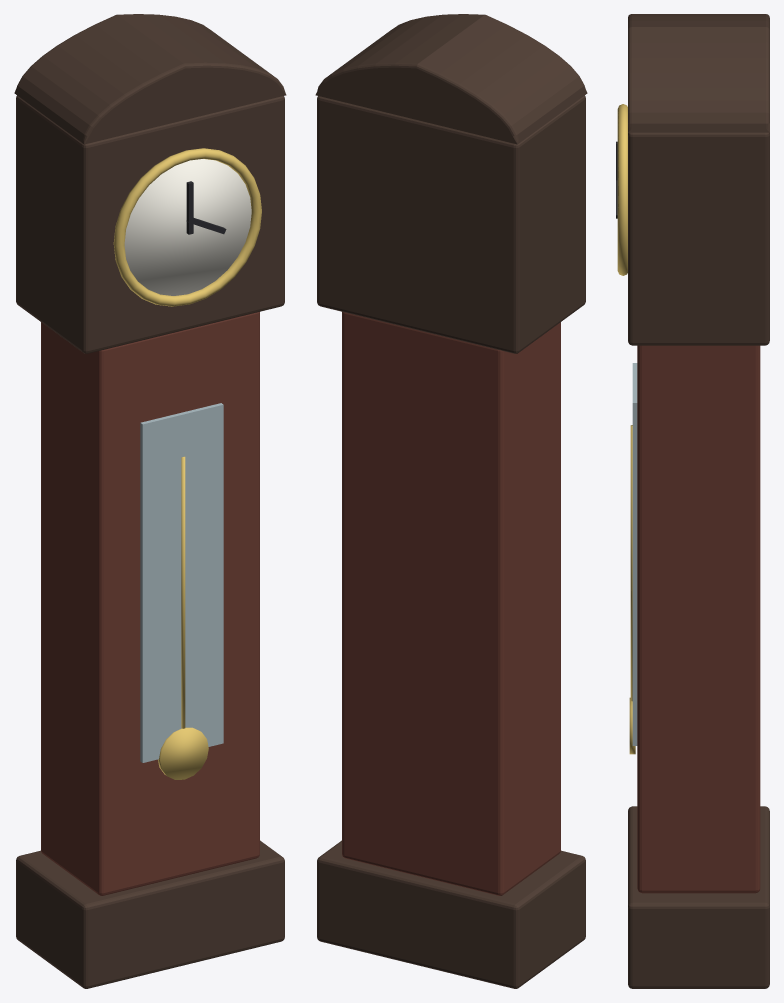
The model's file is clock_grandfather.glb.
3 renders of one model, left to right at view 1: azimuth 30°, elevation 25°; view 2: azimuth 150°, elevation 25°; view 3: azimuth 270°, elevation 25°, orthographic.
Visible parts, largest first — view 1: GD_clock_grandfather__m1, GD_clock_grandfather__m0, GD_clock_grandfather__m5, GD_clock_grandfather__m3, GD_clock_grandfather__m2, GD_clock_grandfather__m4; view 2: GD_clock_grandfather__m1, GD_clock_grandfather__m0; view 3: GD_clock_grandfather__m1, GD_clock_grandfather__m0, GD_clock_grandfather__m2, GD_clock_grandfather__m5.
Boxes of the visible parts, bbox=[...] form: GD_clock_grandfather__m1: bbox=[41, 312, 259, 895]; GD_clock_grandfather__m0: bbox=[14, 14, 286, 988]; GD_clock_grandfather__m5: bbox=[140, 403, 223, 762]; GD_clock_grandfather__m3: bbox=[124, 159, 251, 295]; GD_clock_grandfather__m2: bbox=[113, 148, 261, 779]; GD_clock_grandfather__m4: bbox=[186, 181, 226, 234]; GD_clock_grandfather__m1: bbox=[342, 312, 560, 895]; GD_clock_grandfather__m0: bbox=[315, 14, 587, 988]; GD_clock_grandfather__m1: bbox=[637, 345, 760, 893]; GD_clock_grandfather__m0: bbox=[628, 14, 769, 988]; GD_clock_grandfather__m2: bbox=[617, 104, 635, 754]; GD_clock_grandfather__m5: bbox=[632, 363, 637, 745].
Bounding box in the file's own units: 0.5 × 2.13 × 0.325.
